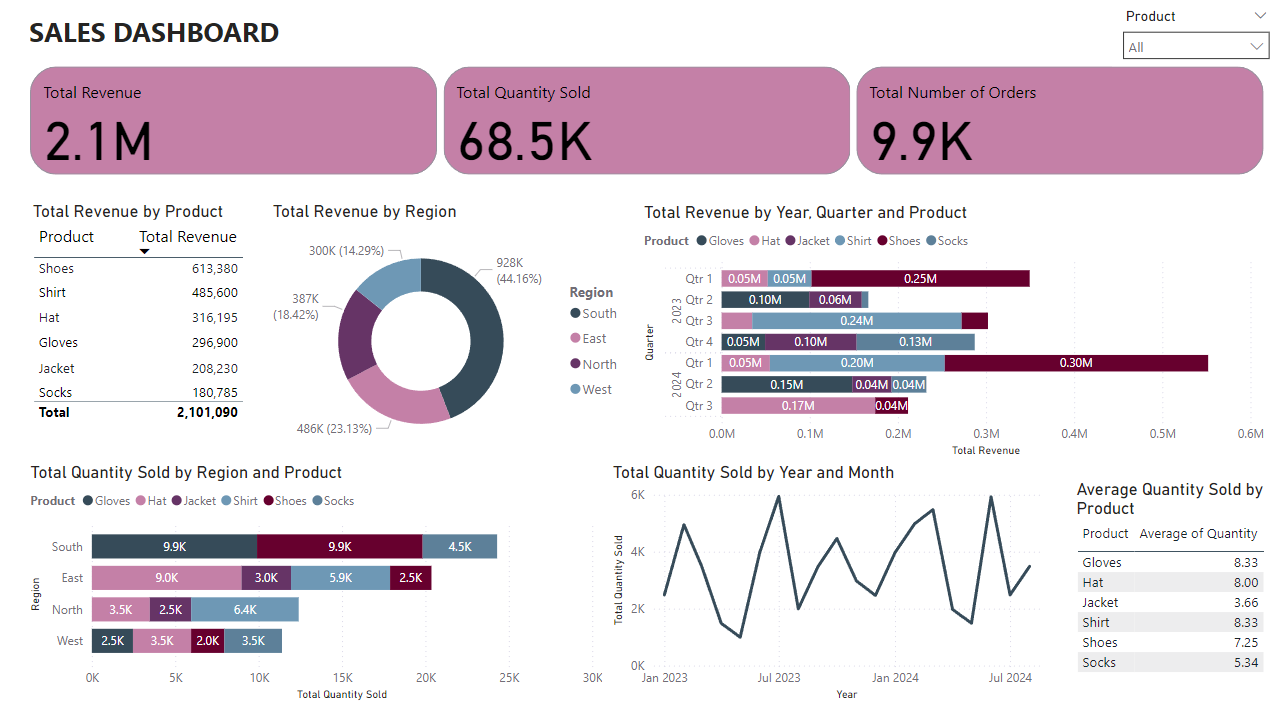

The page's visual inventory and layout, read from the dashboard file:
{"tool":"powerbi","page":{"name":"Sales Data","canvas":[1280,720],"ordinal":0},"visuals":[{"type":"textbox","box":[25.6,10,327.1,54],"z":0},{"type":"cardVisual","fields":{"Data":["Sum(SalesData.TotalRevenue)","Sum(SalesData.Quantity)","CountNonNull(SalesData.OrderID)"]},"box":[26.1,63.4,1244,118.2],"z":1000},{"type":"tableEx","title":"Total Revenue by Product","fields":{"Values":["SalesData.Product","Sum(SalesData.TotalRevenue)"]},"box":[28.6,202.8,228.9,232.6],"z":2000},{"type":"donutChart","fields":{"Category":["SalesData.Region"],"Y":["Sum(SalesData.TotalRevenue)"]},"box":[268.7,202.8,370.7,262.5],"z":3000},{"type":"barChart","fields":{"Y":["Sum(SalesData.TotalRevenue)"],"Series":["SalesData.Product"],"Category":["SalesData.OrderDate.Variation.Date Hierarchy.Year","SalesData.OrderDate.Variation.Date Hierarchy.Quarter1"]},"box":[639.4,204,630.7,260],"z":4000},{"type":"slicer","fields":{"Values":["SalesData.Product"]},"box":[1113.3,5,166.7,63.4],"z":5000},{"type":"barChart","fields":{"Category":["SalesData.Region"],"Y":["Sum(SalesData.Quantity)"],"Series":["SalesData.Product"]},"box":[26.1,464,582.2,243.8],"z":6000},{"type":"lineChart","fields":{"Y":["Sum(SalesData.Quantity)"],"Category":["SalesData.OrderDate.Variation.Date Hierarchy.Year","SalesData.OrderDate.Variation.Date Hierarchy.Month"]},"box":[608.3,464,449.1,243.8],"z":7000},{"type":"tableEx","title":"Average Quantity Sold by Product","fields":{"Values":["SalesData.Product","Avg(SalesData.Quantity)"]},"box":[1072.3,481.4,197.8,207.7],"z":8000}]}

Visuals, with their boxes in screenshot pixels (x1, y1, x2, y2), scaled from the page's 1280x720 canvas onto the 1273x716 screenshot:
textbox: (left=25, top=10, right=351, bottom=64)
cardVisual - Sum(SalesData.TotalRevenue) x Sum(SalesData.Quantity): (left=26, top=63, right=1263, bottom=181)
"Total Revenue by Product" tableEx: (left=28, top=202, right=256, bottom=433)
donutChart - SalesData.Region x Sum(SalesData.TotalRevenue): (left=267, top=202, right=636, bottom=463)
barChart - Sum(SalesData.TotalRevenue) x SalesData.Product: (left=636, top=203, right=1263, bottom=461)
slicer - SalesData.Product: (left=1107, top=5, right=1272, bottom=68)
barChart - SalesData.Region x Sum(SalesData.Quantity): (left=26, top=461, right=605, bottom=704)
lineChart - Sum(SalesData.Quantity) x SalesData.OrderDate.Variation.Date Hierarchy.Year: (left=605, top=461, right=1052, bottom=704)
"Average Quantity Sold by Product" tableEx: (left=1066, top=479, right=1263, bottom=685)
